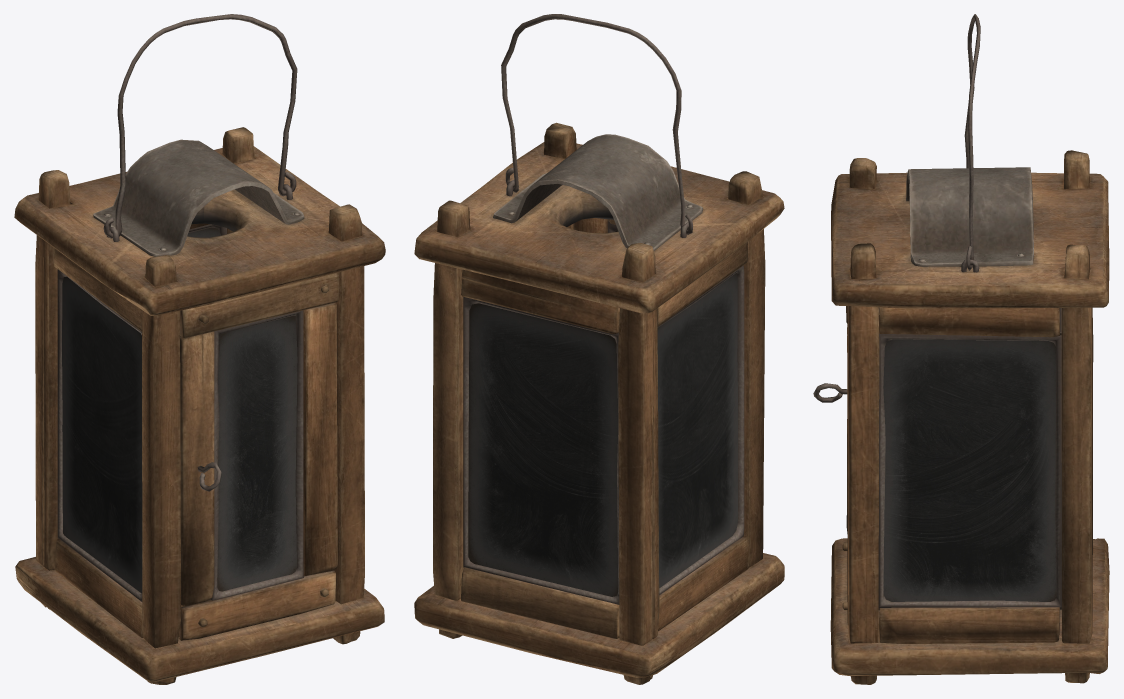
File: wooden_lantern_01_lantern-lod1.glb
3 views of the same model, side by side, from view 1: azimuth 30°, elevation 25°; view 2: azimuth 150°, elevation 25°; view 3: azimuth 270°, elevation 25° (orthographic).
Visible parts, largest first — view 1: wooden_lantern_01, wooden_lantern_01_door, wooden_lantern_01_handle; view 2: wooden_lantern_01, wooden_lantern_01_handle, wooden_lantern_01_door; view 3: wooden_lantern_01, wooden_lantern_01_handle, wooden_lantern_01_door.
Part boxes in pixels (x1,y1,x2,y2): wooden_lantern_01: (14,127,385,684); wooden_lantern_01_door: (178,272,339,640); wooden_lantern_01_handle: (103,14,297,238); wooden_lantern_01: (414,122,784,684); wooden_lantern_01_handle: (501,14,693,234); wooden_lantern_01_door: (573,218,618,233); wooden_lantern_01: (830,150,1109,684); wooden_lantern_01_handle: (964,14,980,270); wooden_lantern_01_door: (813,306,848,625).
Bounding box in the file's own units: 0.2211 × 0.5301 × 0.2347.
2 materials, 2 textured.
